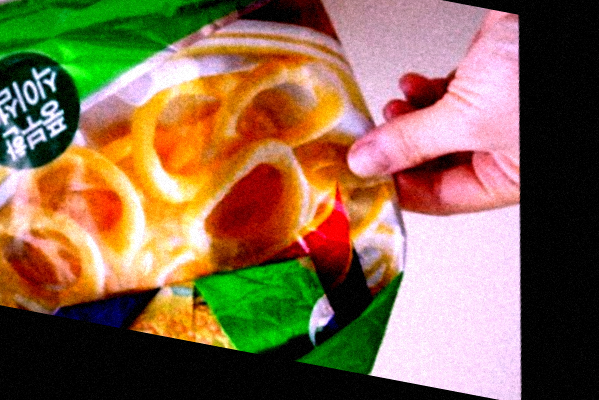vinyl_s: (1, 1, 413, 384)
